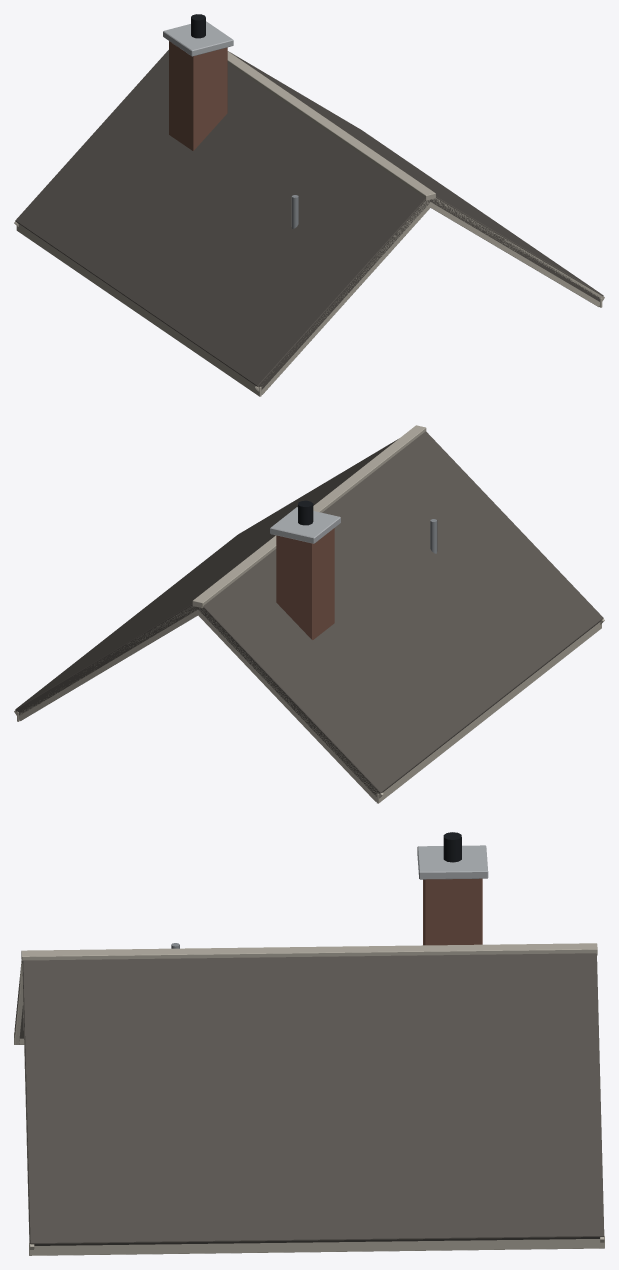
Rendered from house4_roof.glb.
3 views of the same model, one above another, from view 1: azimuth 30°, elevation 25°; view 2: azimuth 150°, elevation 25°; view 3: azimuth 270°, elevation 25° (orthographic). The views are drawn at different scales.
Visible parts, largest first — view 1: house4_roof; view 2: house4_roof; view 3: house4_roof.
Boxes of the visible parts, x1=… form: house4_roof: x1=14, y1=14, x2=604, y2=396; house4_roof: x1=14, y1=425, x2=604, y2=803; house4_roof: x1=14, y1=832, x2=604, y2=1255.
Size of the model in its own units: 7.25 by 4.21 by 8.12.
